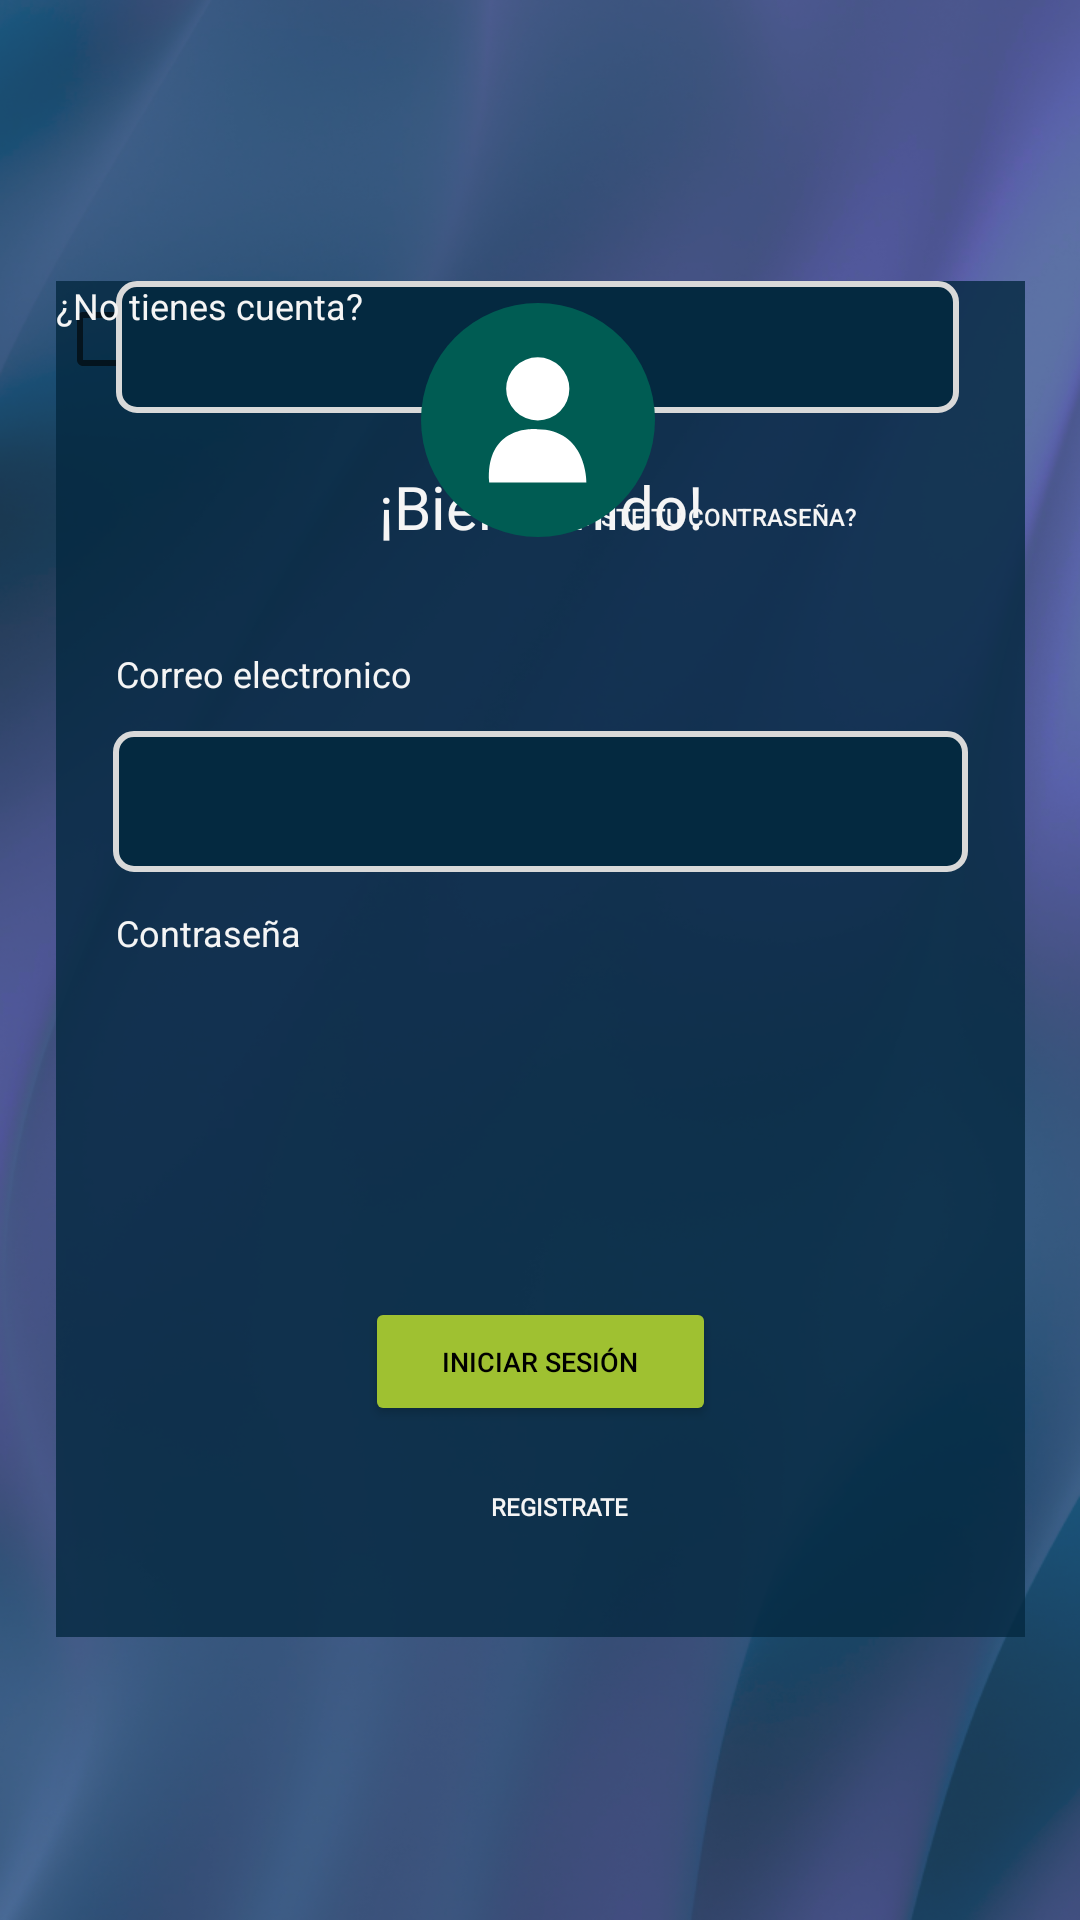

Screen size 1080px x 1920px. Icon name, then its center in pixels as [x,y]:
iconoperfil: [538,420]
